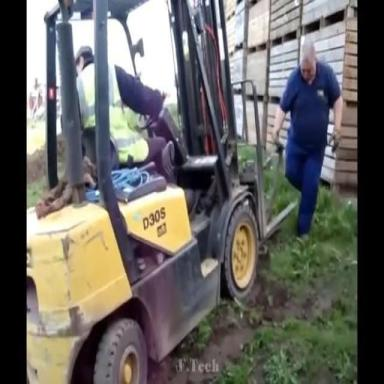forklift: (27, 0, 298, 384)
